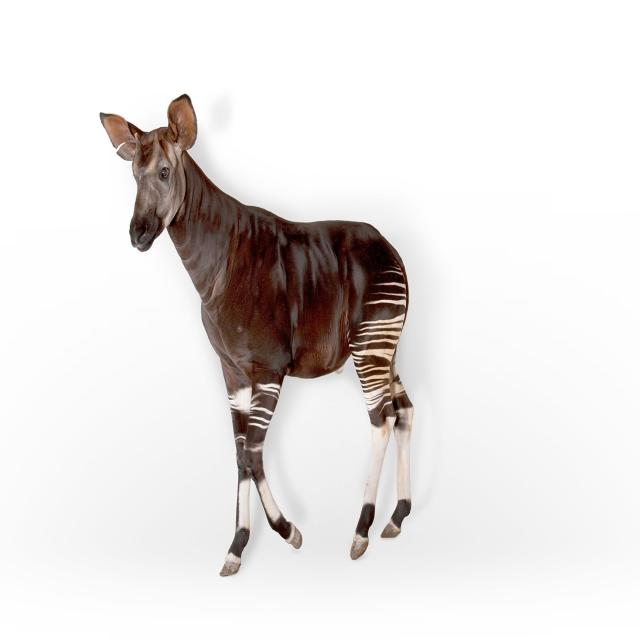Okapi: (94, 94, 415, 573)
